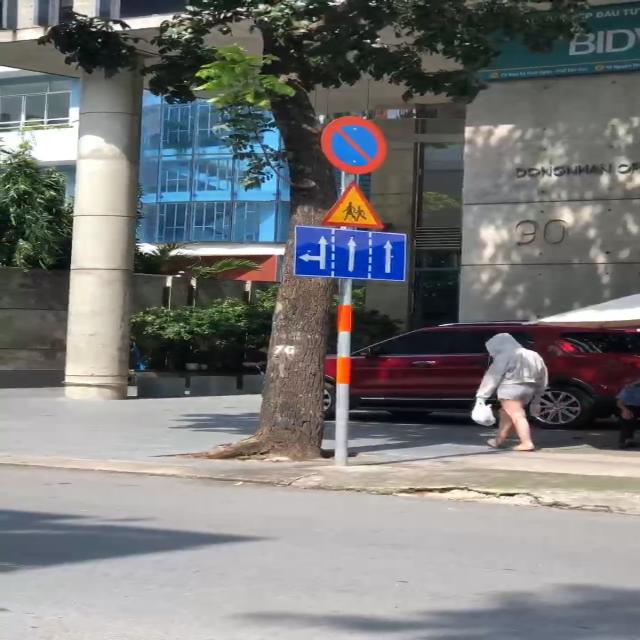Bien bao cam do xe: (319, 111, 391, 175)
Bien bao tre em: (317, 177, 403, 232)
